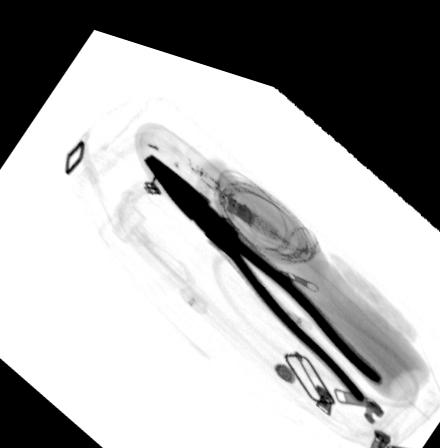Pliers: (142, 141, 384, 380)
